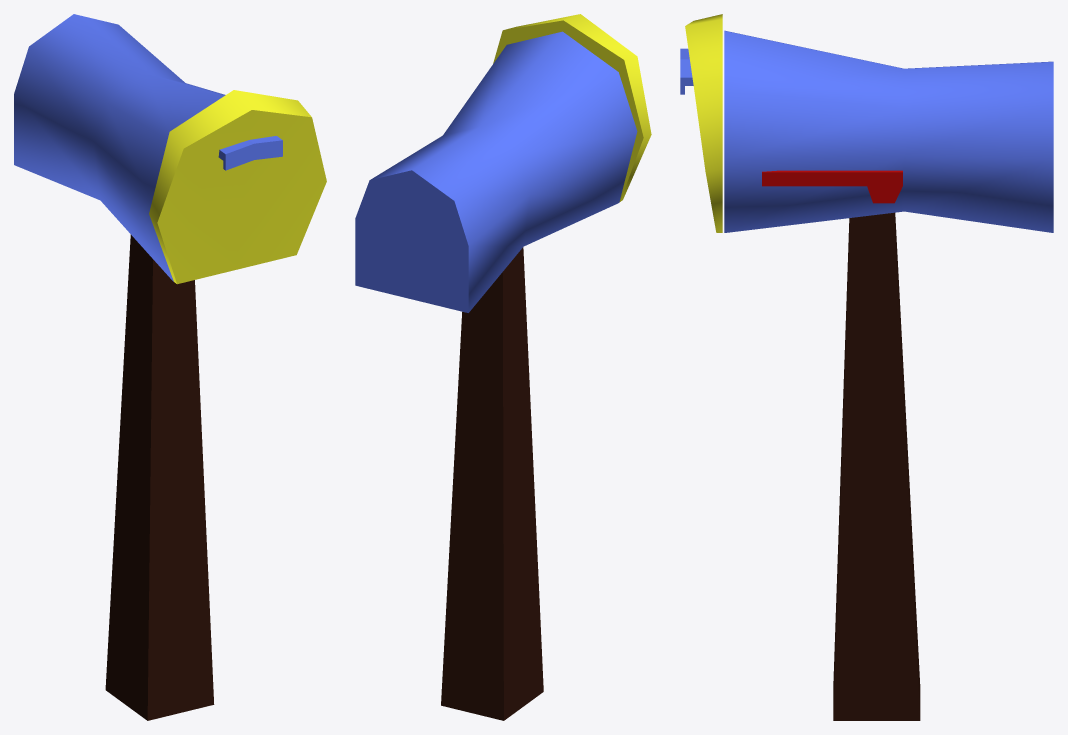
The model's file is Yard_DriveWay_MailBox.FBX.
3 views of the same model, side by side, from view 1: azimuth 30°, elevation 25°; view 2: azimuth 150°, elevation 25°; view 3: azimuth 270°, elevation 25° (orthographic). The views are drawn at different scales.
Parts seen in each view (by area): view 1: Yard_DriveWay_MailBox_Post, Yard_DriveWay_MailBox_Body, Yard_DriveWay_MailBox_Door; view 2: Yard_DriveWay_MailBox_Body, Yard_DriveWay_MailBox_Post, Yard_DriveWay_MailBox_Door; view 3: Yard_DriveWay_MailBox_Body, Yard_DriveWay_MailBox_Post, Yard_DriveWay_MailBox_Door, Yard_DriveWay_MailBox_Flag.
Part boxes in pixels (x1,y1,x2,y2): Yard_DriveWay_MailBox_Post: (105, 234, 214, 720); Yard_DriveWay_MailBox_Body: (14, 14, 225, 281); Yard_DriveWay_MailBox_Door: (149, 90, 326, 284); Yard_DriveWay_MailBox_Body: (355, 31, 637, 312); Yard_DriveWay_MailBox_Post: (441, 247, 543, 720); Yard_DriveWay_MailBox_Door: (493, 14, 651, 201); Yard_DriveWay_MailBox_Body: (724, 30, 1053, 232); Yard_DriveWay_MailBox_Post: (833, 212, 920, 720); Yard_DriveWay_MailBox_Door: (680, 14, 722, 232); Yard_DriveWay_MailBox_Flag: (762, 170, 902, 203).
Size of the model in its own units: 62.25 by 232 by 115.
